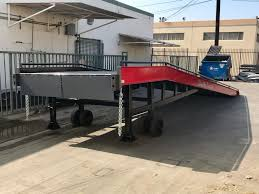Yard Ramp: (12, 61, 241, 141)
